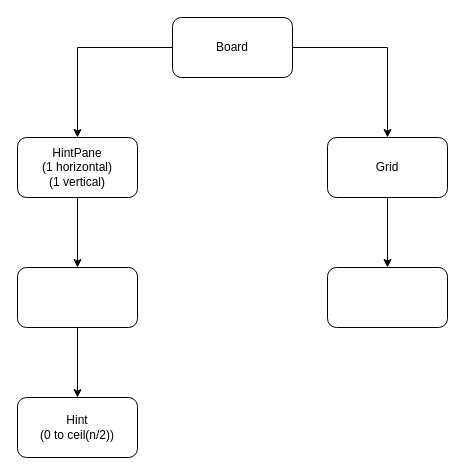
Image size: 465x475. Some labels were removed from this diagram. Each missing label, with the centre of its shape:
"Block (n x n)" belongs at pixel 387 297.
"HintBar (n)" belongs at pixel 77 297.
